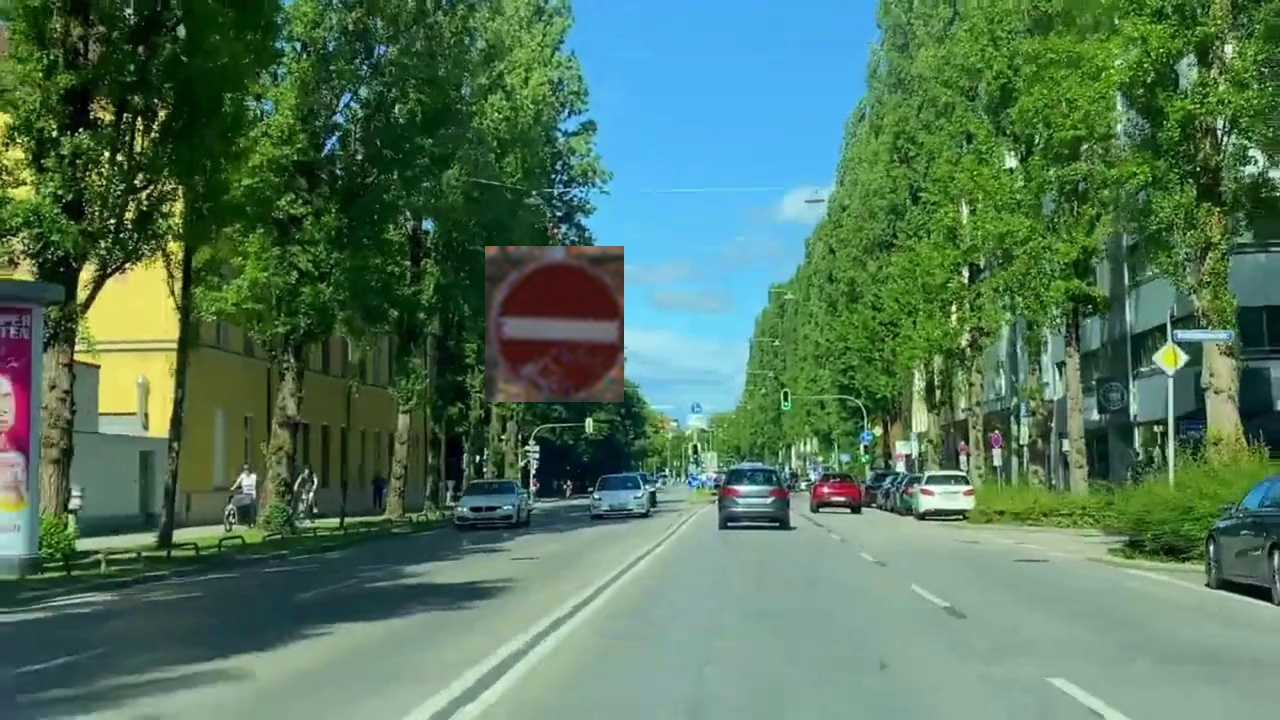No entry: (485, 246, 624, 402)
